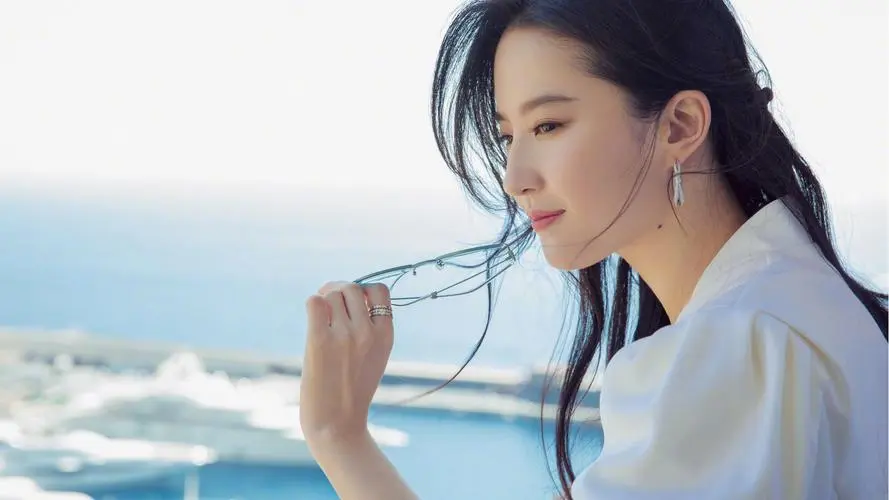withoutmask: (449, 5, 766, 279)
